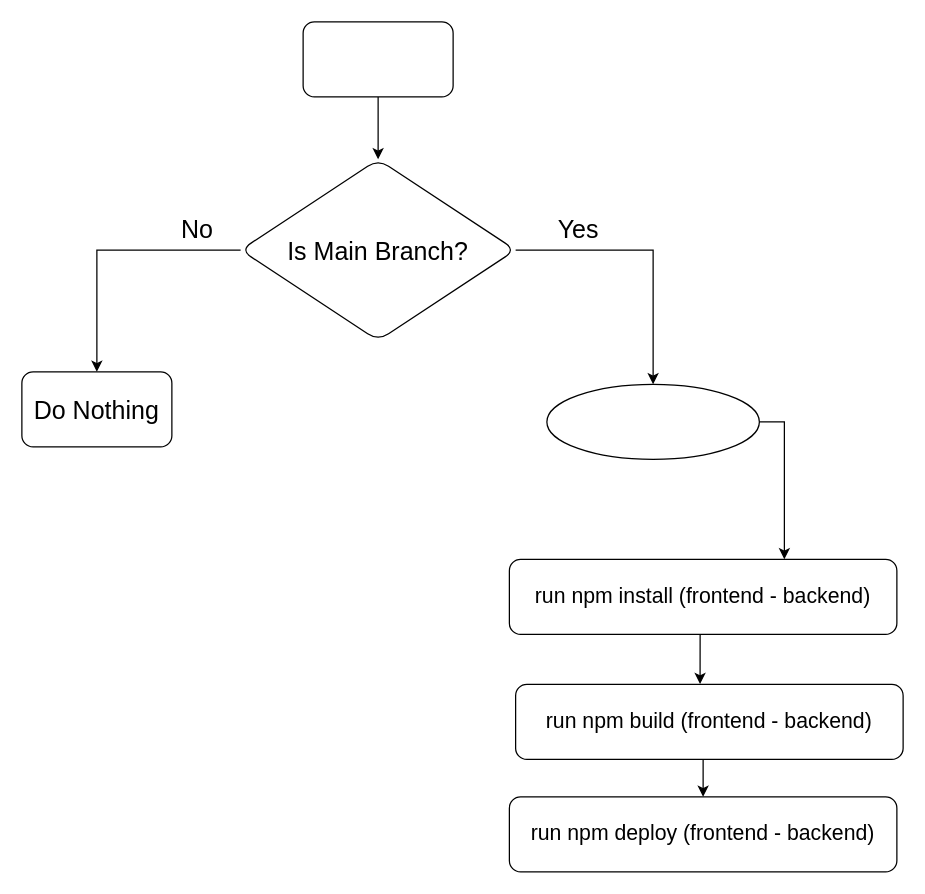
This 925x894 diagram has some shape labels left out. Here are the shapes that lost their labels. From the top down, the centre of each, then its label:
the point at 377,59: init orbs
the point at 652,421: Run Build Job
